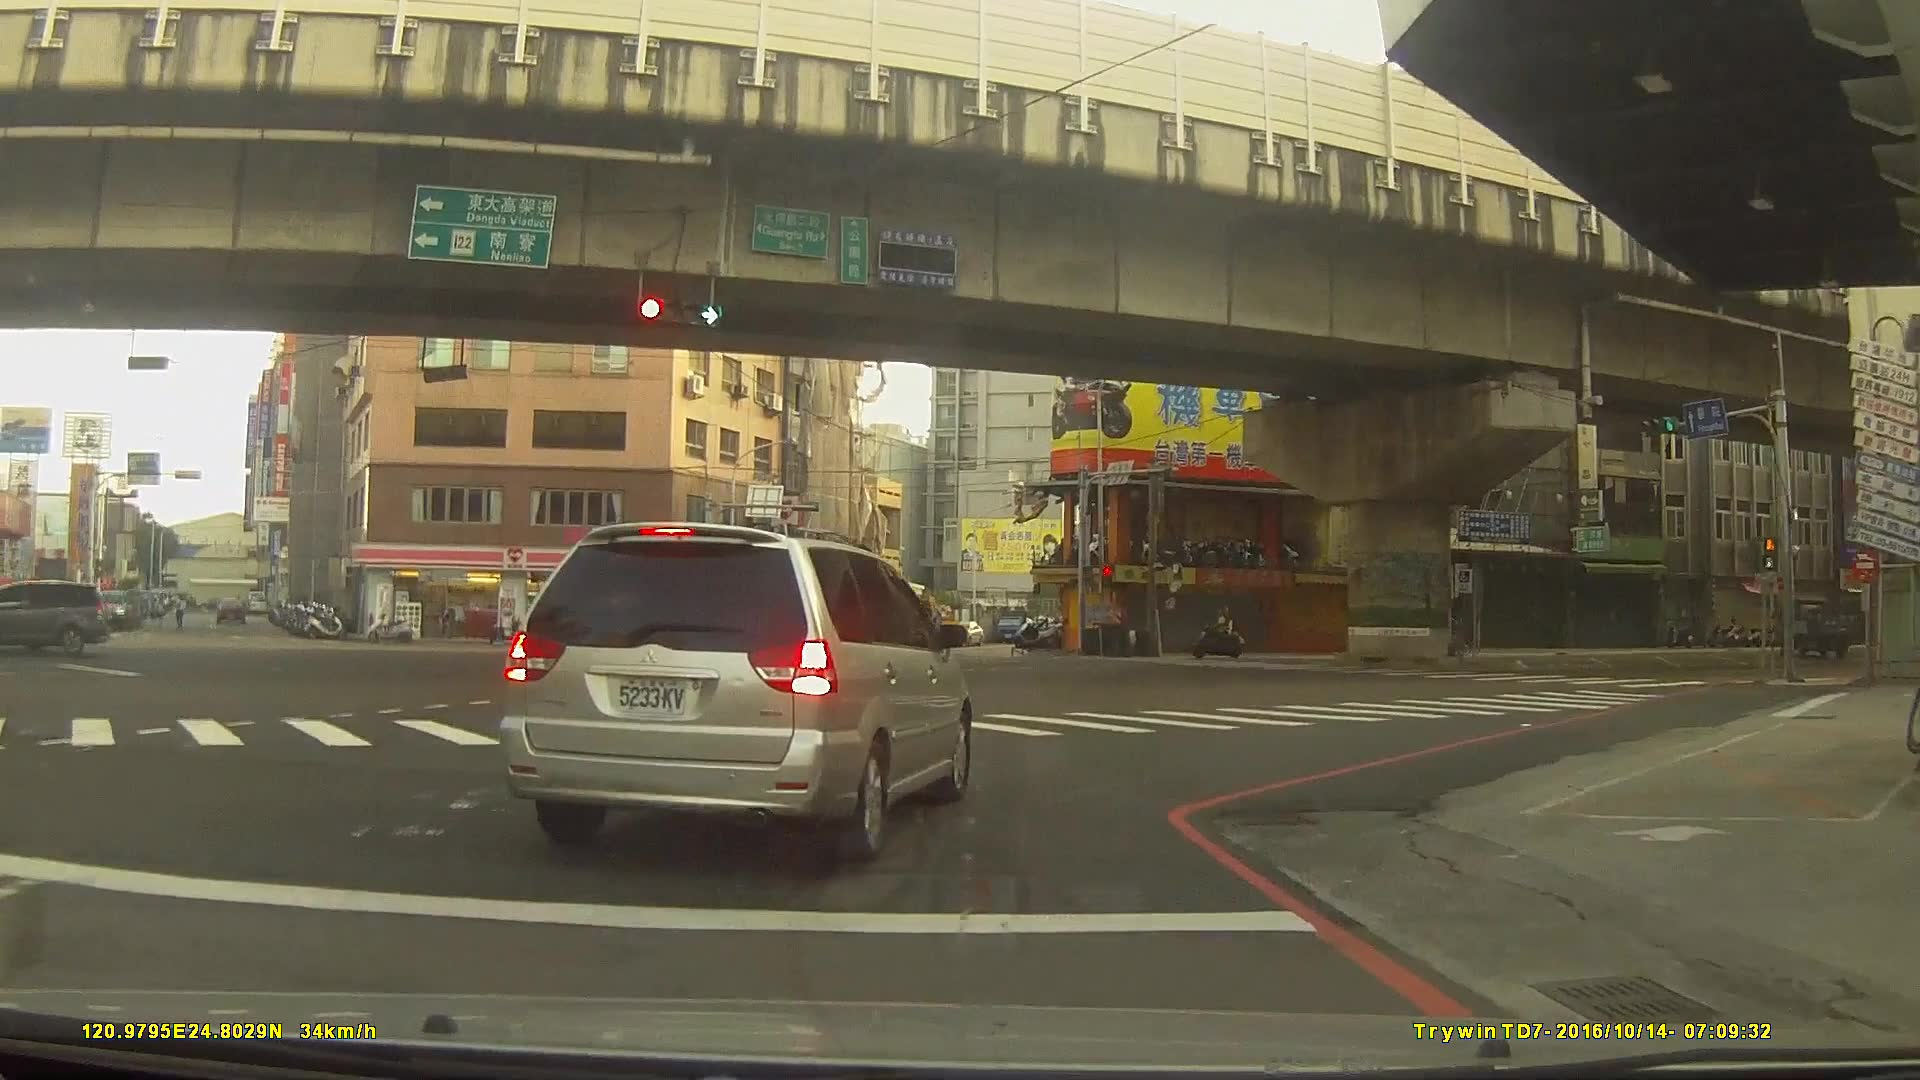rider: (1190, 603, 1245, 658)
vehicle: (497, 518, 973, 861), (0, 576, 112, 654), (1775, 592, 1854, 656), (858, 620, 923, 658), (90, 588, 133, 633), (543, 606, 605, 633), (212, 594, 247, 624)
